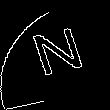N_S: (23, 25, 87, 85)
